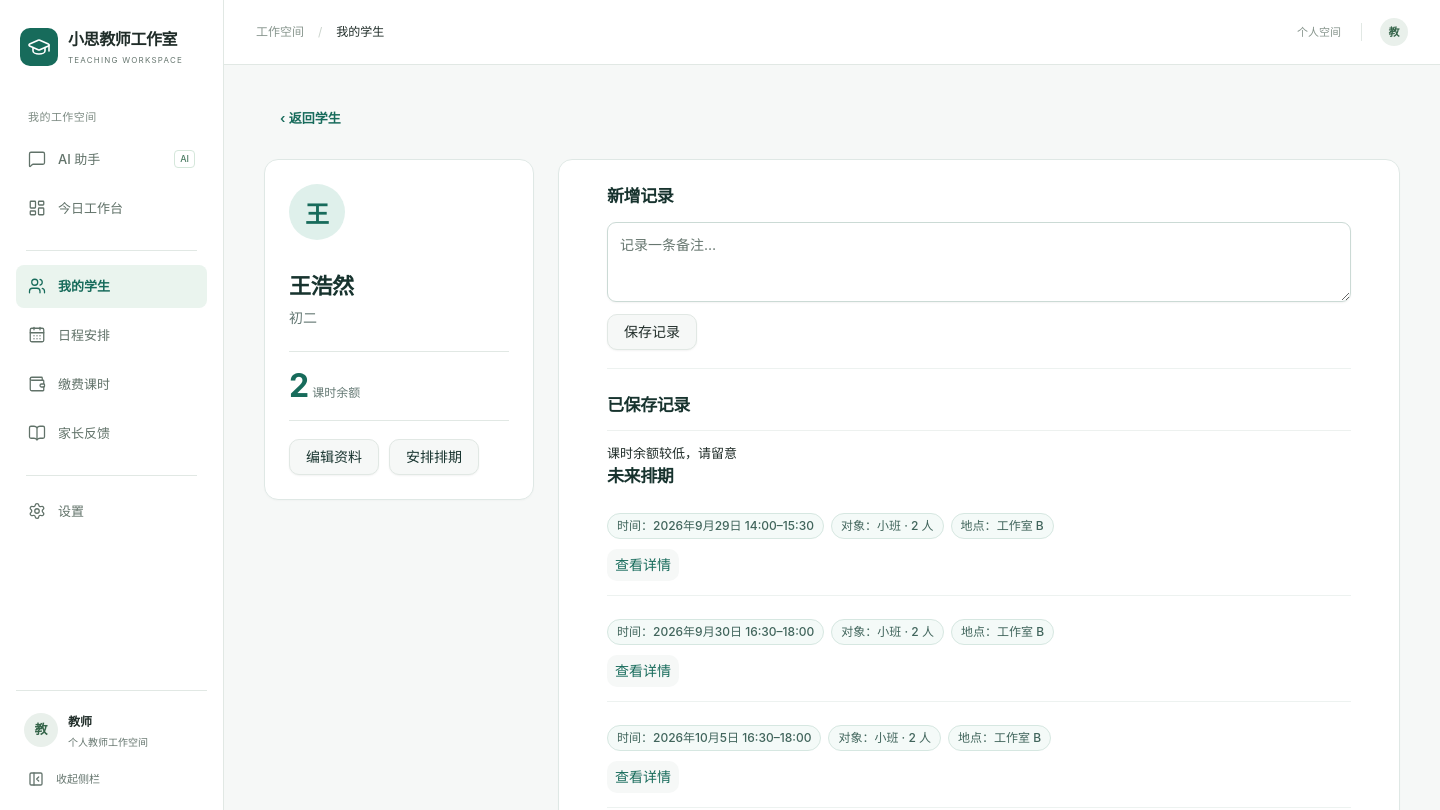
Test: student profile editing › summarizes small groups without names and reveals names in details
expect the text "对象：小班 · 2 人" next to "15:30" is shown: met, box [831,513,944,539]
Click the button "查看详情" below "2026年9月29日": coordinates (643, 565) [607,549,679,581]
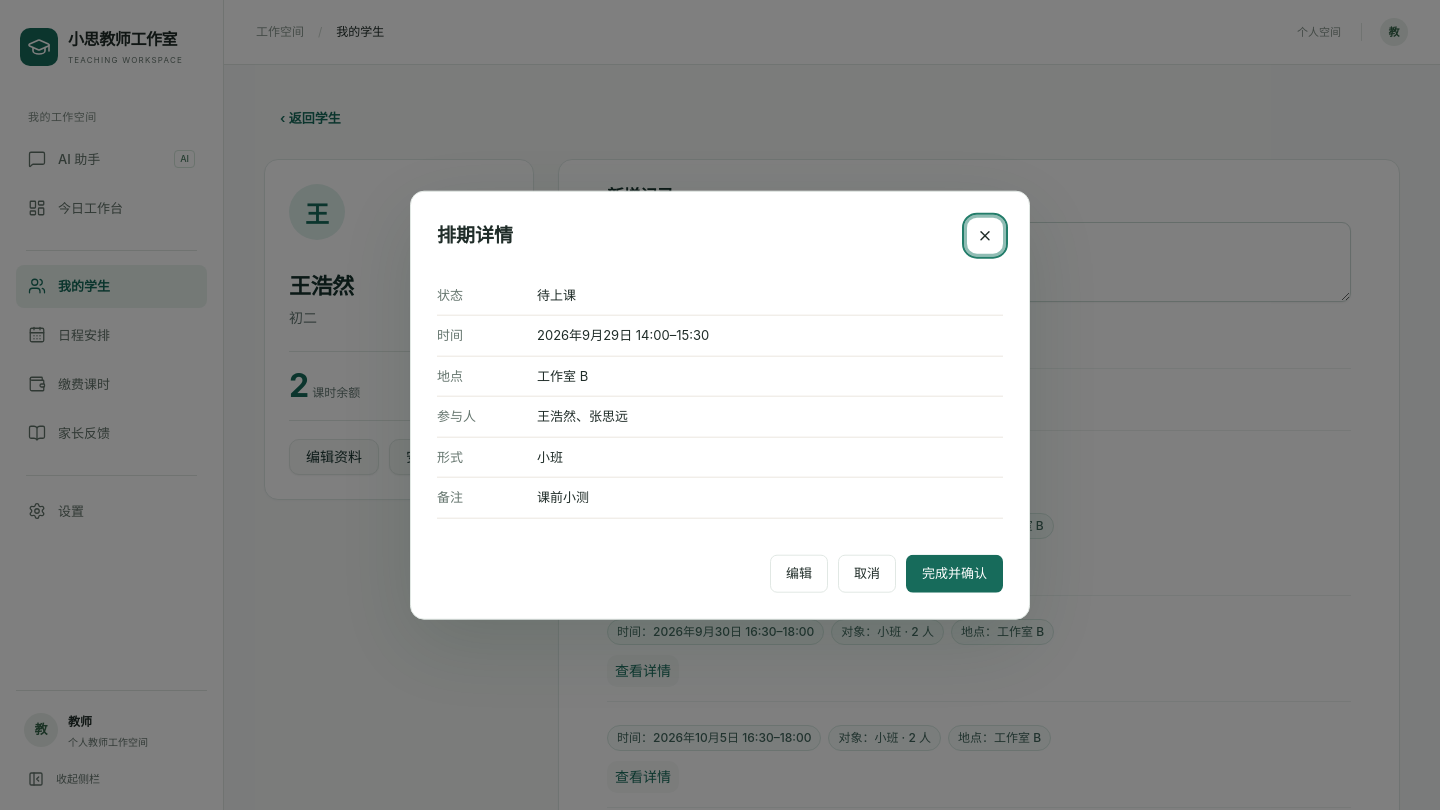
expect the text "王浩然、张思远" is shown: met, box [537,408,628,424]
